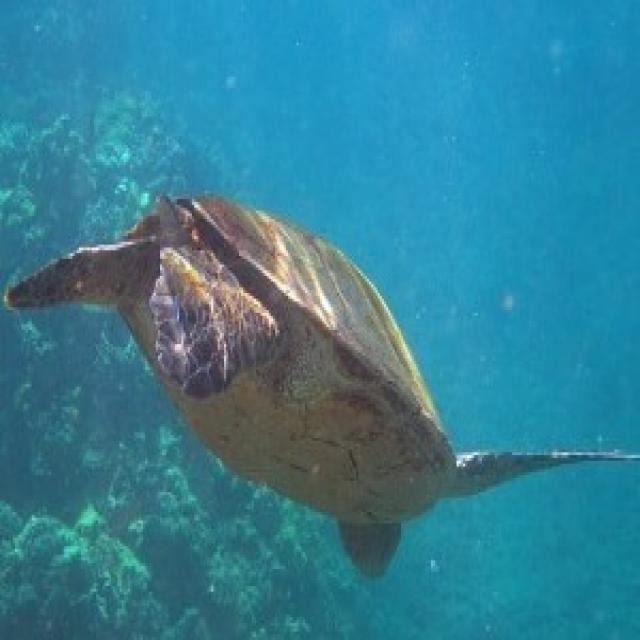Sea turtle: (0, 178, 629, 548)
